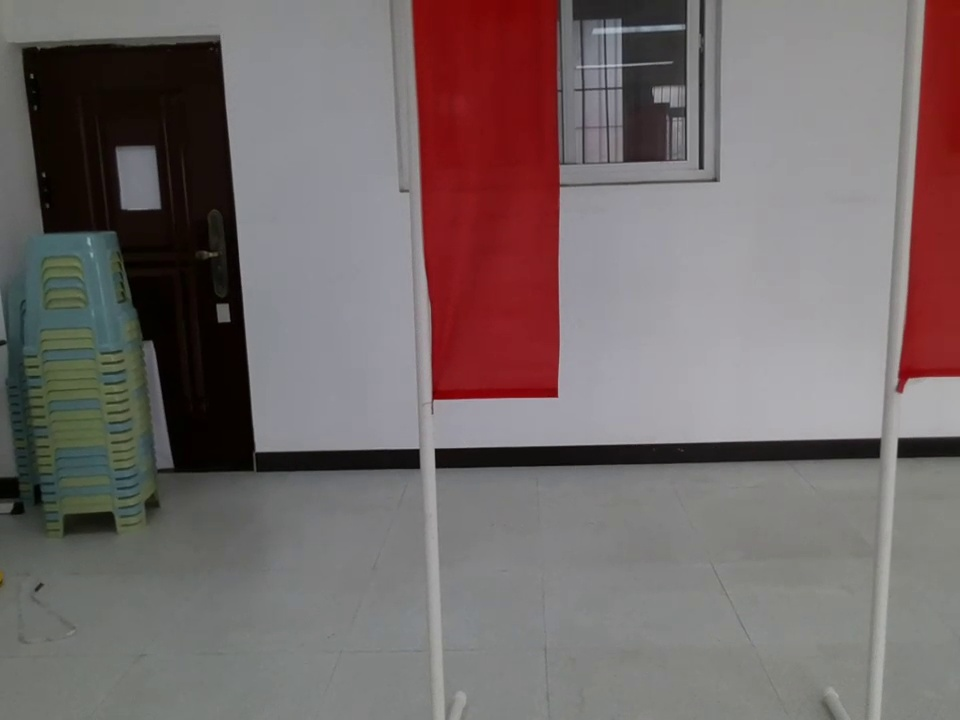qi: (379, 1, 571, 413), (881, 2, 960, 432)
